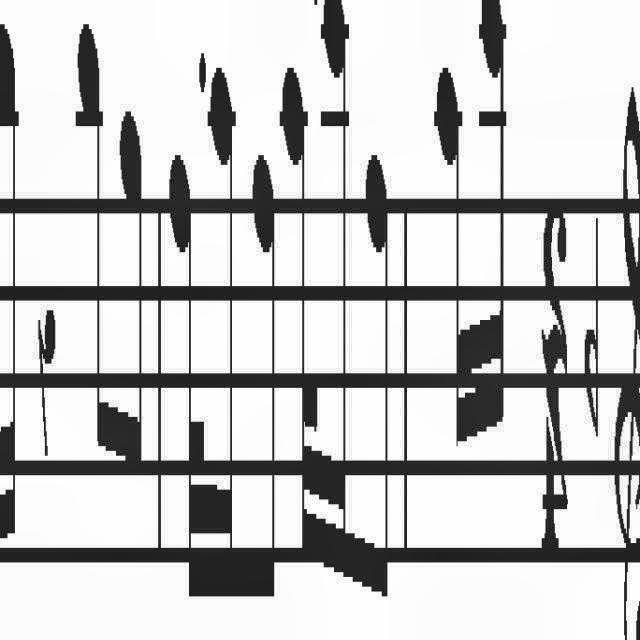Bass-clef: (612, 0, 640, 640)
Bemol: (577, 152, 607, 493)
Eighth-note: (360, 94, 400, 638), (70, 0, 112, 460), (118, 61, 154, 535), (249, 126, 279, 640)
Eighth-rest: (32, 278, 59, 482)
Sixteenth-note: (320, 0, 356, 596), (432, 39, 478, 498), (210, 50, 242, 602), (481, 0, 515, 456), (0, 0, 26, 562)
